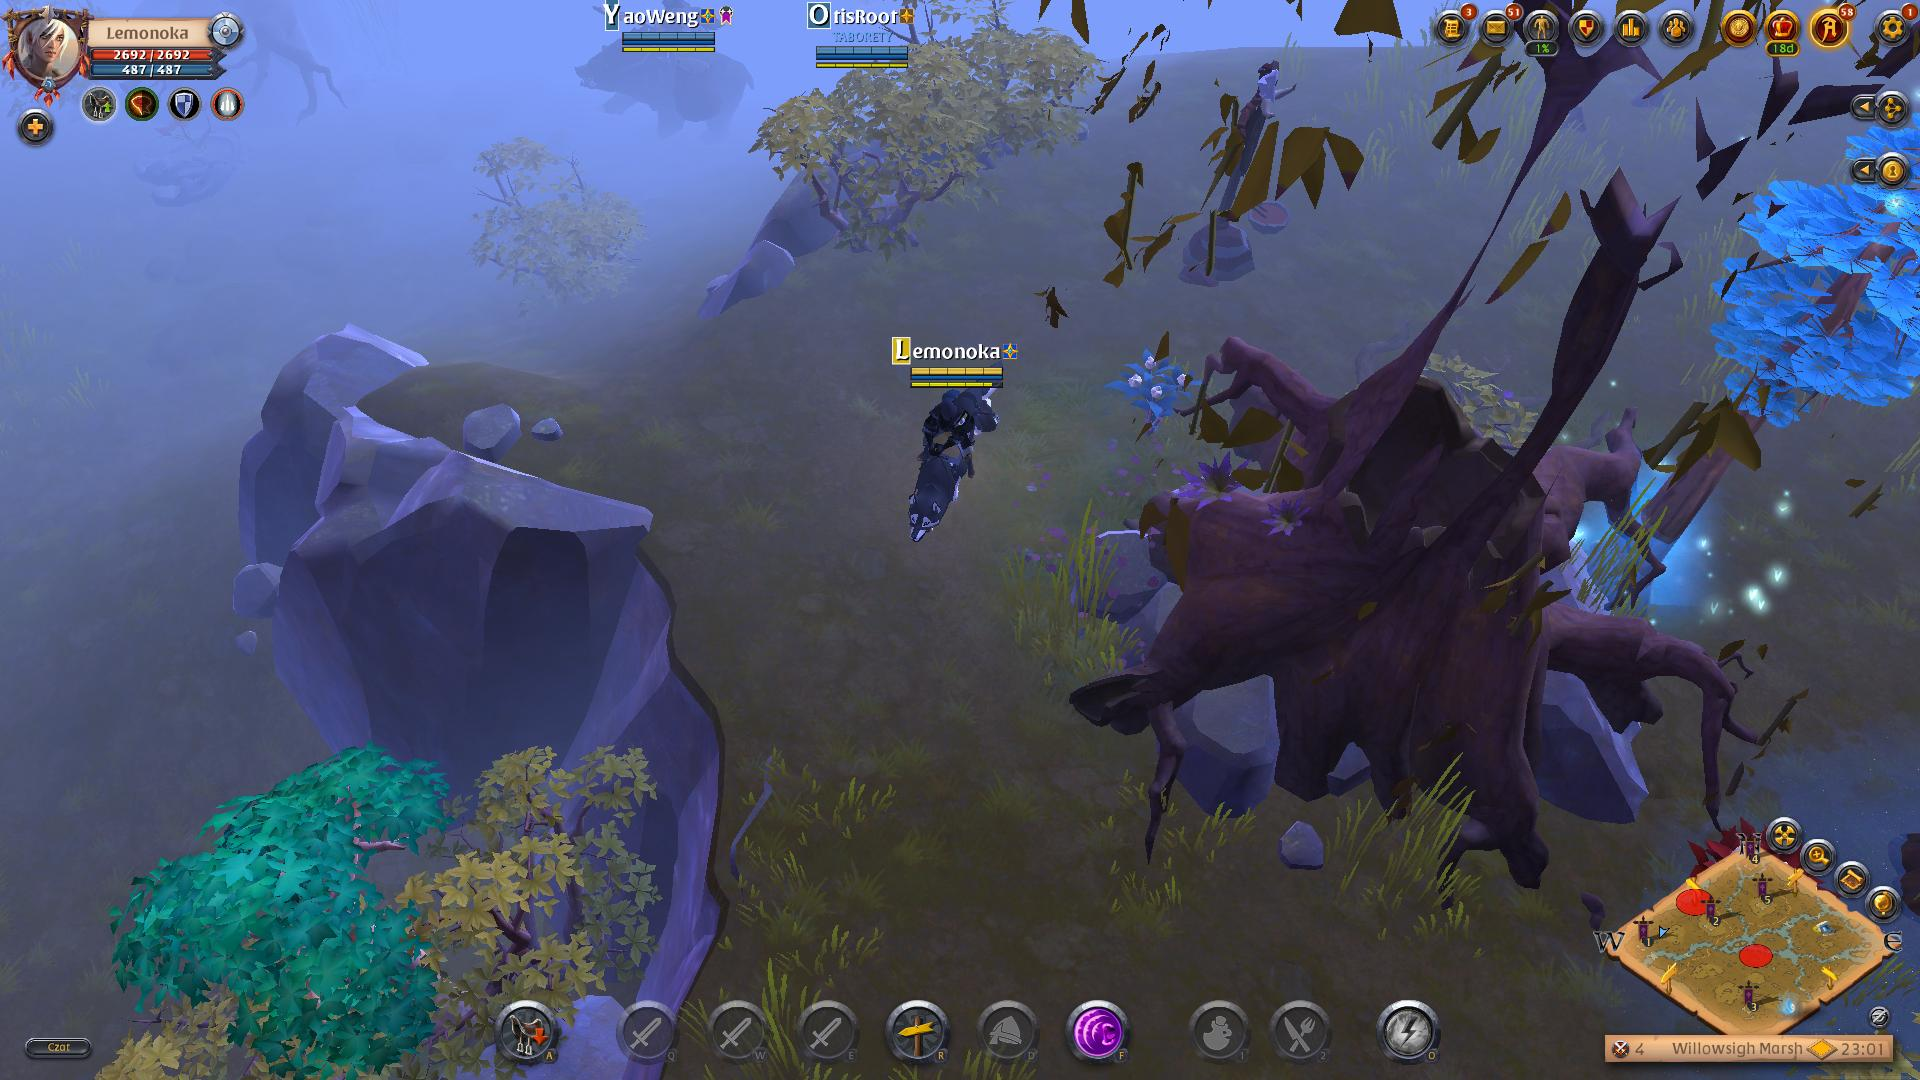fiber tier 4: (1108, 342, 1201, 448)
wood tier 3: (108, 740, 456, 1076)
